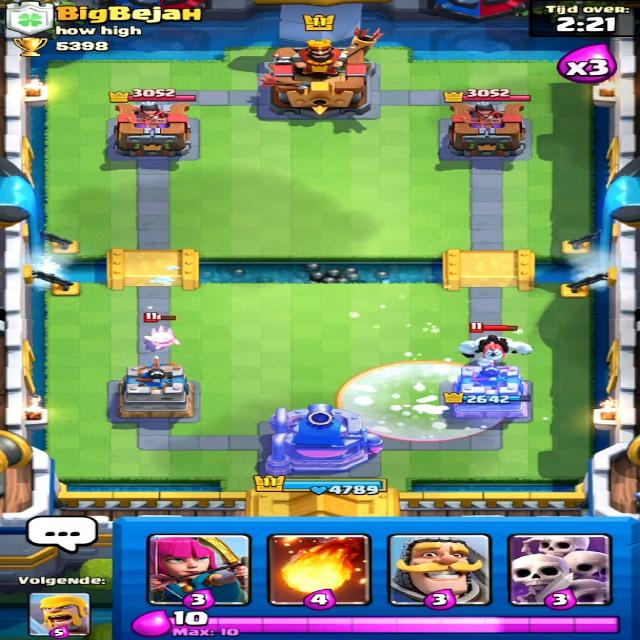Enemy_Ice_Golem_Troop: (448, 332, 548, 361)
Enemy_Ice_Spirit_Troop: (130, 329, 188, 352)
Fireball_Card: (271, 535, 367, 608)
